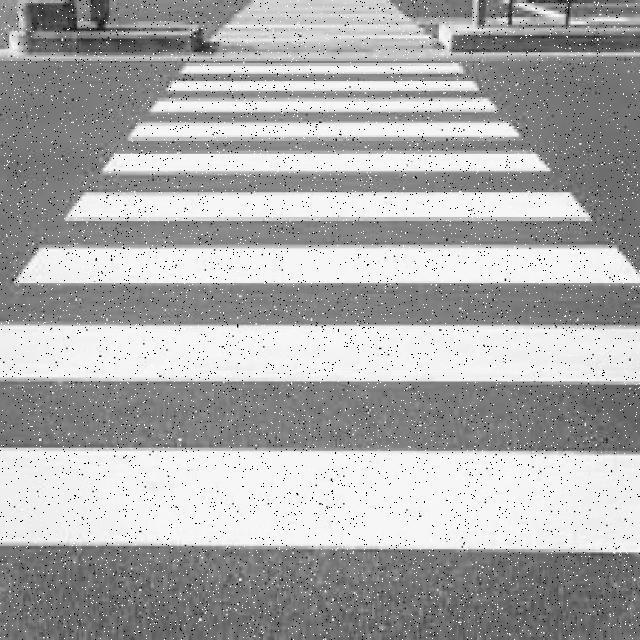Pedestrian crosswalk: (2, 0, 640, 575)
